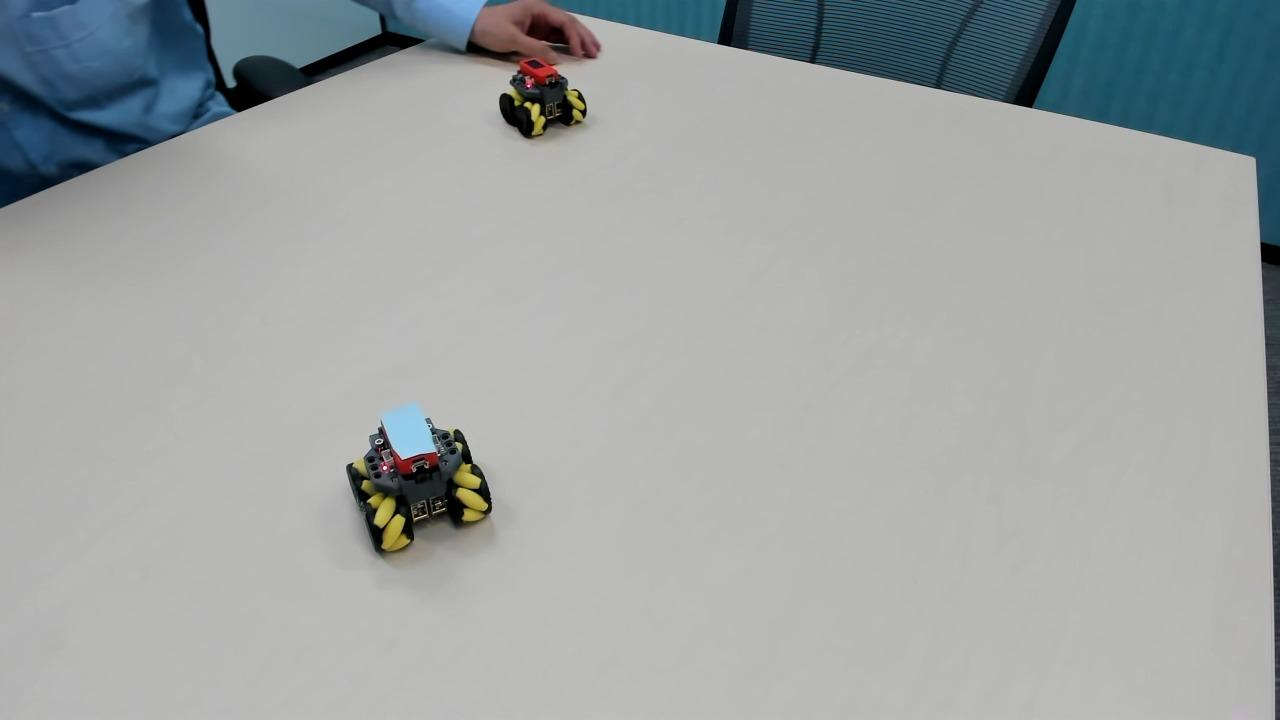B-Robot: (331, 395, 511, 564)
R-Robot: (491, 49, 600, 153)
